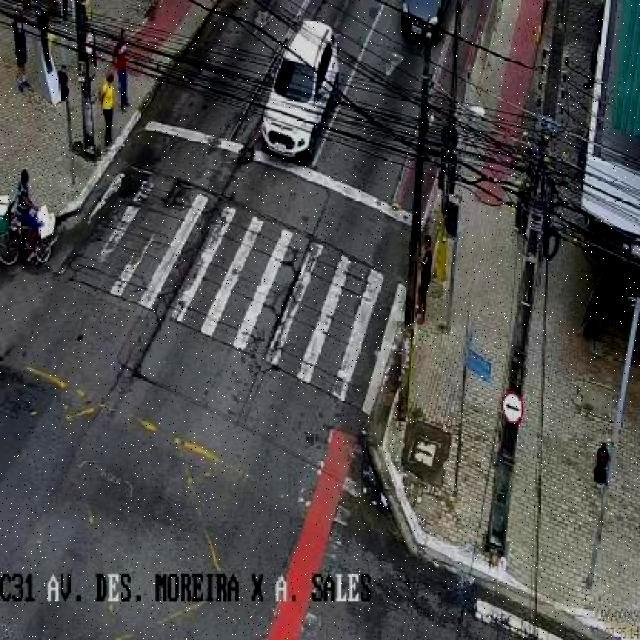Car: (249, 16, 352, 179), (390, 0, 472, 66)
Cycle: (0, 150, 60, 267)
